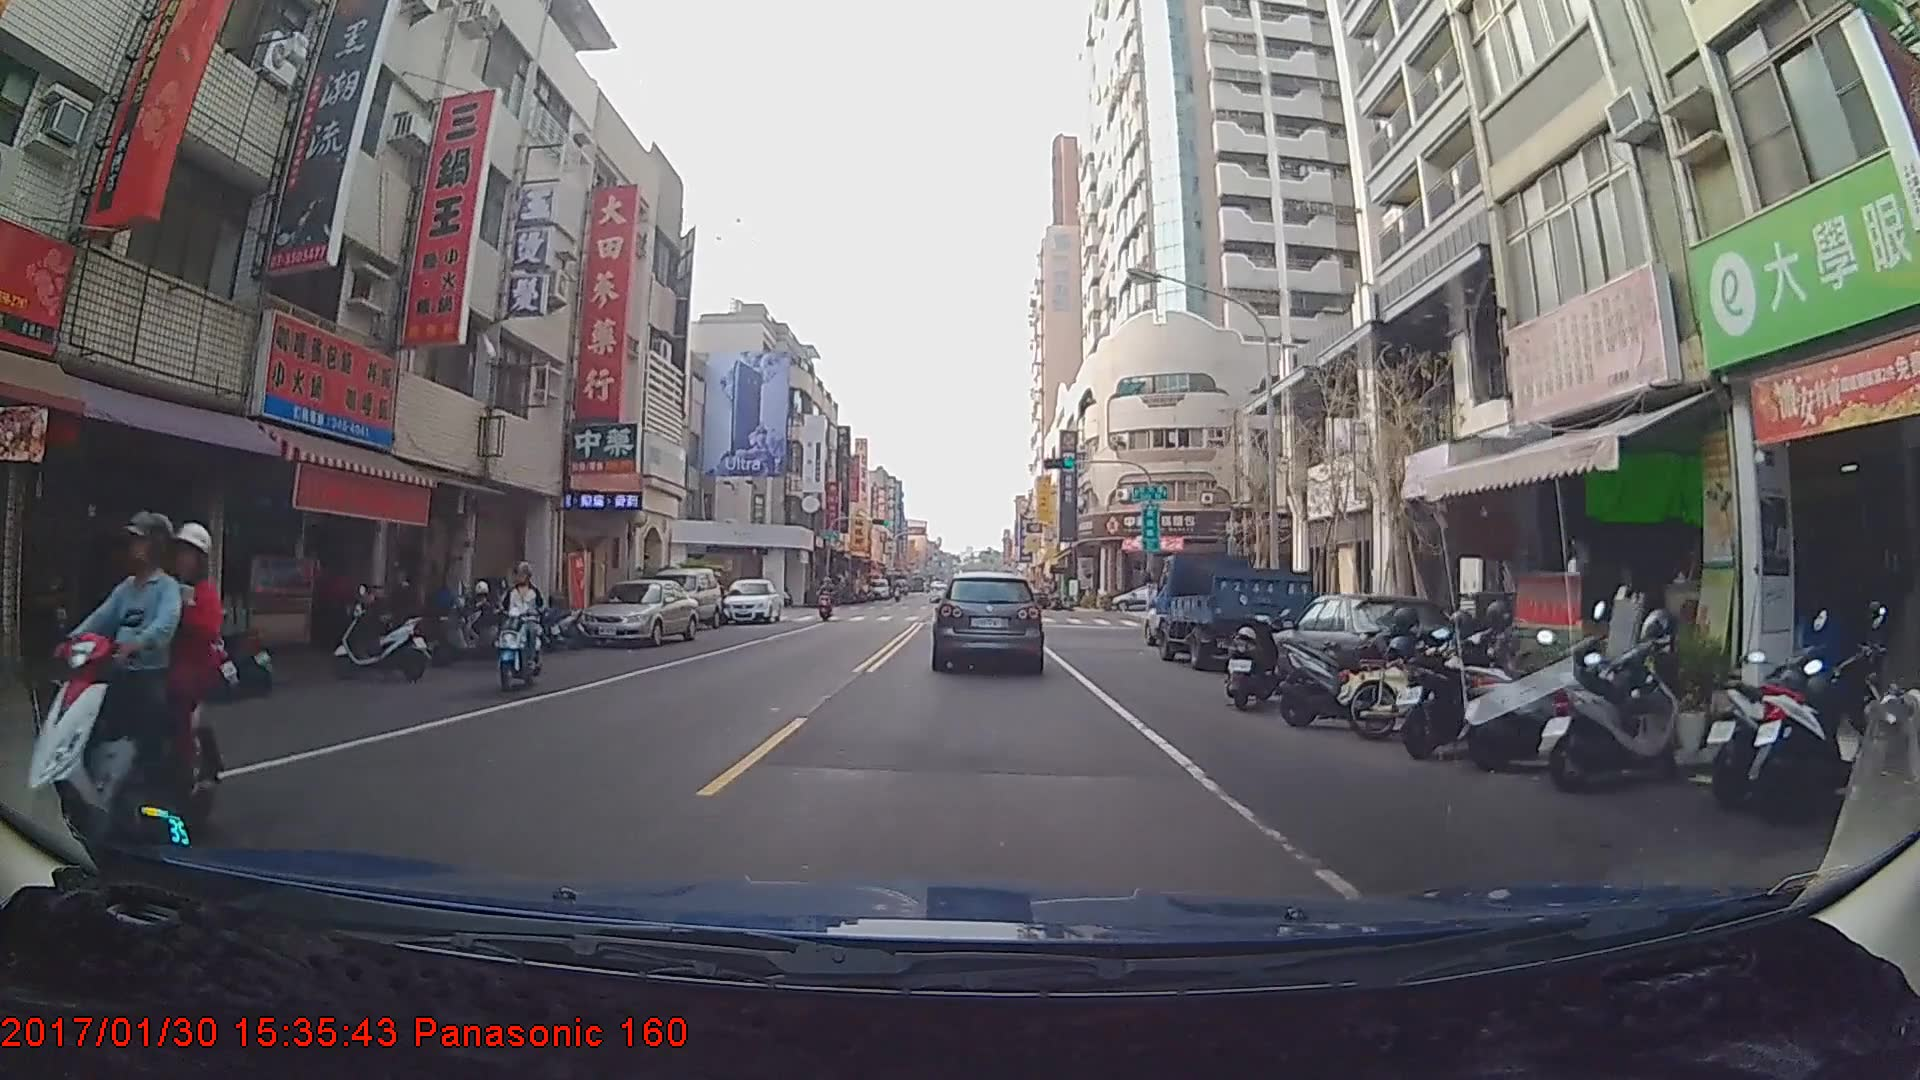rider: (27, 507, 231, 854), (492, 563, 554, 692), (816, 580, 837, 626)
vehicle: (1152, 551, 1315, 672), (932, 571, 1044, 672), (573, 576, 700, 647), (641, 565, 725, 633), (722, 576, 782, 625), (1108, 583, 1174, 611)
